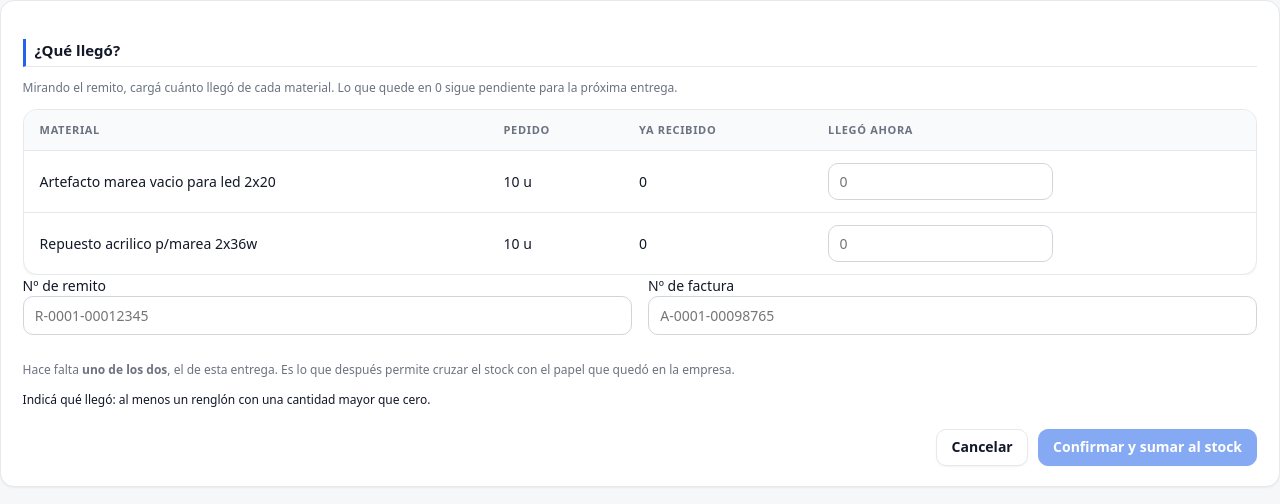
Test case: RecibirMercaderia › arranca en 0, sin nada precargado; si se carga todo, la orden queda finalizada
The image size is (1280, 504).
Check: the number field named "Cuánto llegó de Repuesto acrilico p/marea 2x36w" is not empty, box [828, 225, 1053, 262]
Check: the text "Indicá qué llegó" is shown, box [23, 391, 430, 408]
In the number field named "Cuánto llegó de Artefacto marea vacio para led 2x20": (940, 182) [828, 163, 1053, 200], type "10"
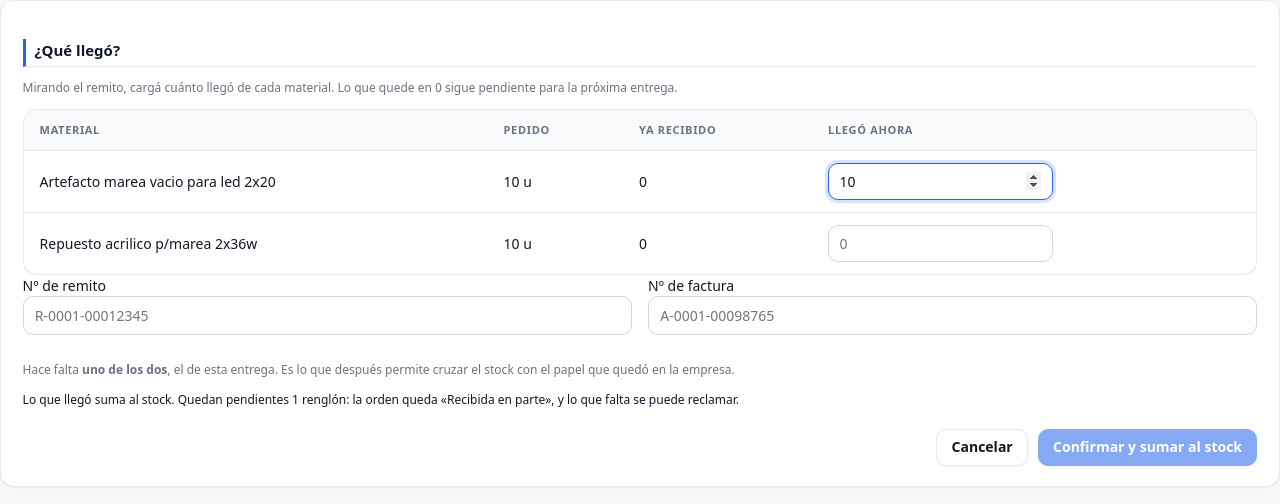
In the number field named "Cuánto llegó de Repuesto acrilico p/marea 2x36w": (940, 244) [828, 225, 1053, 262], type "10"
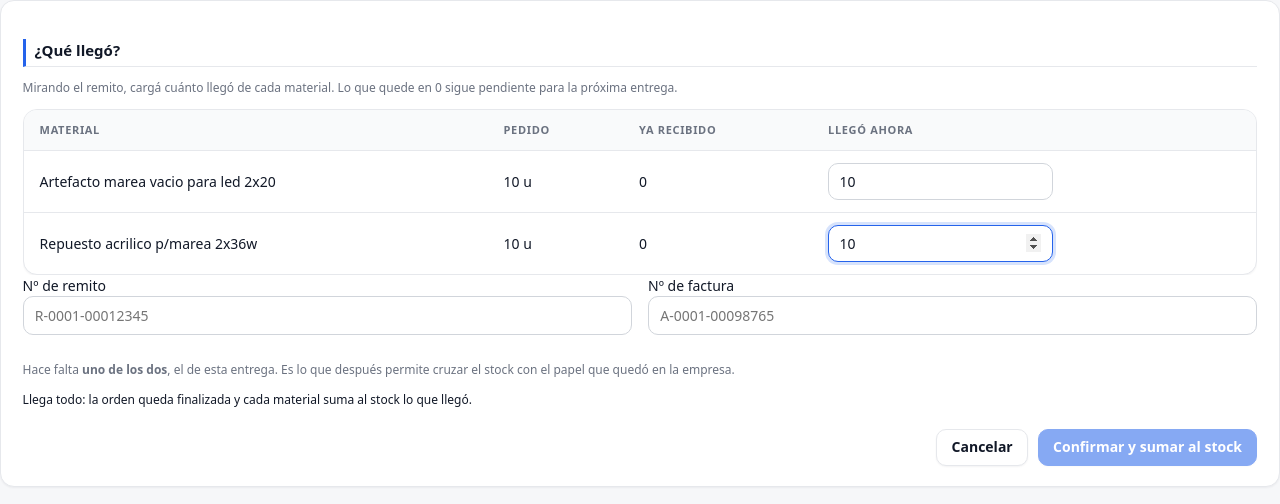
Check: the text "Llega todo: la orden queda finalizada" is shown, box [23, 391, 472, 408]
